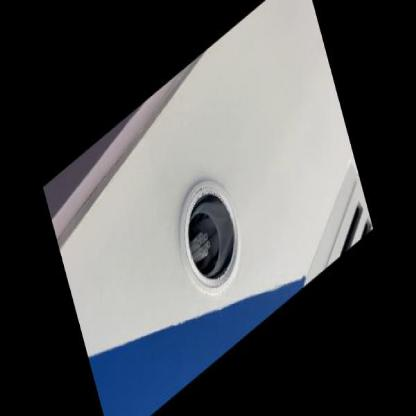light_off: (152, 131, 260, 330)
